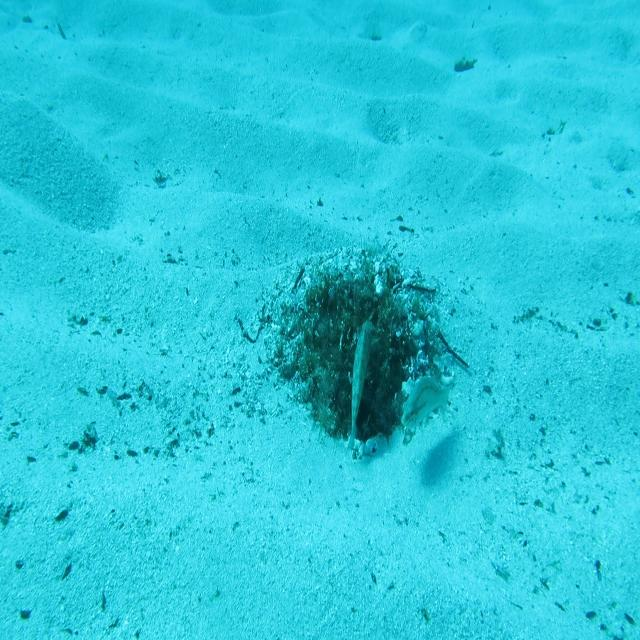core_nest: (331, 293, 374, 344)
vegetation: (453, 59, 475, 74)
